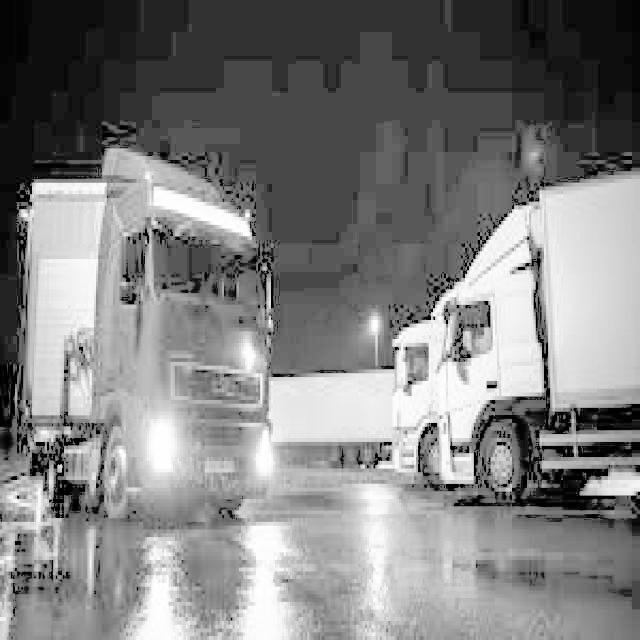Truck: (13, 145, 274, 522), (390, 168, 638, 503)
